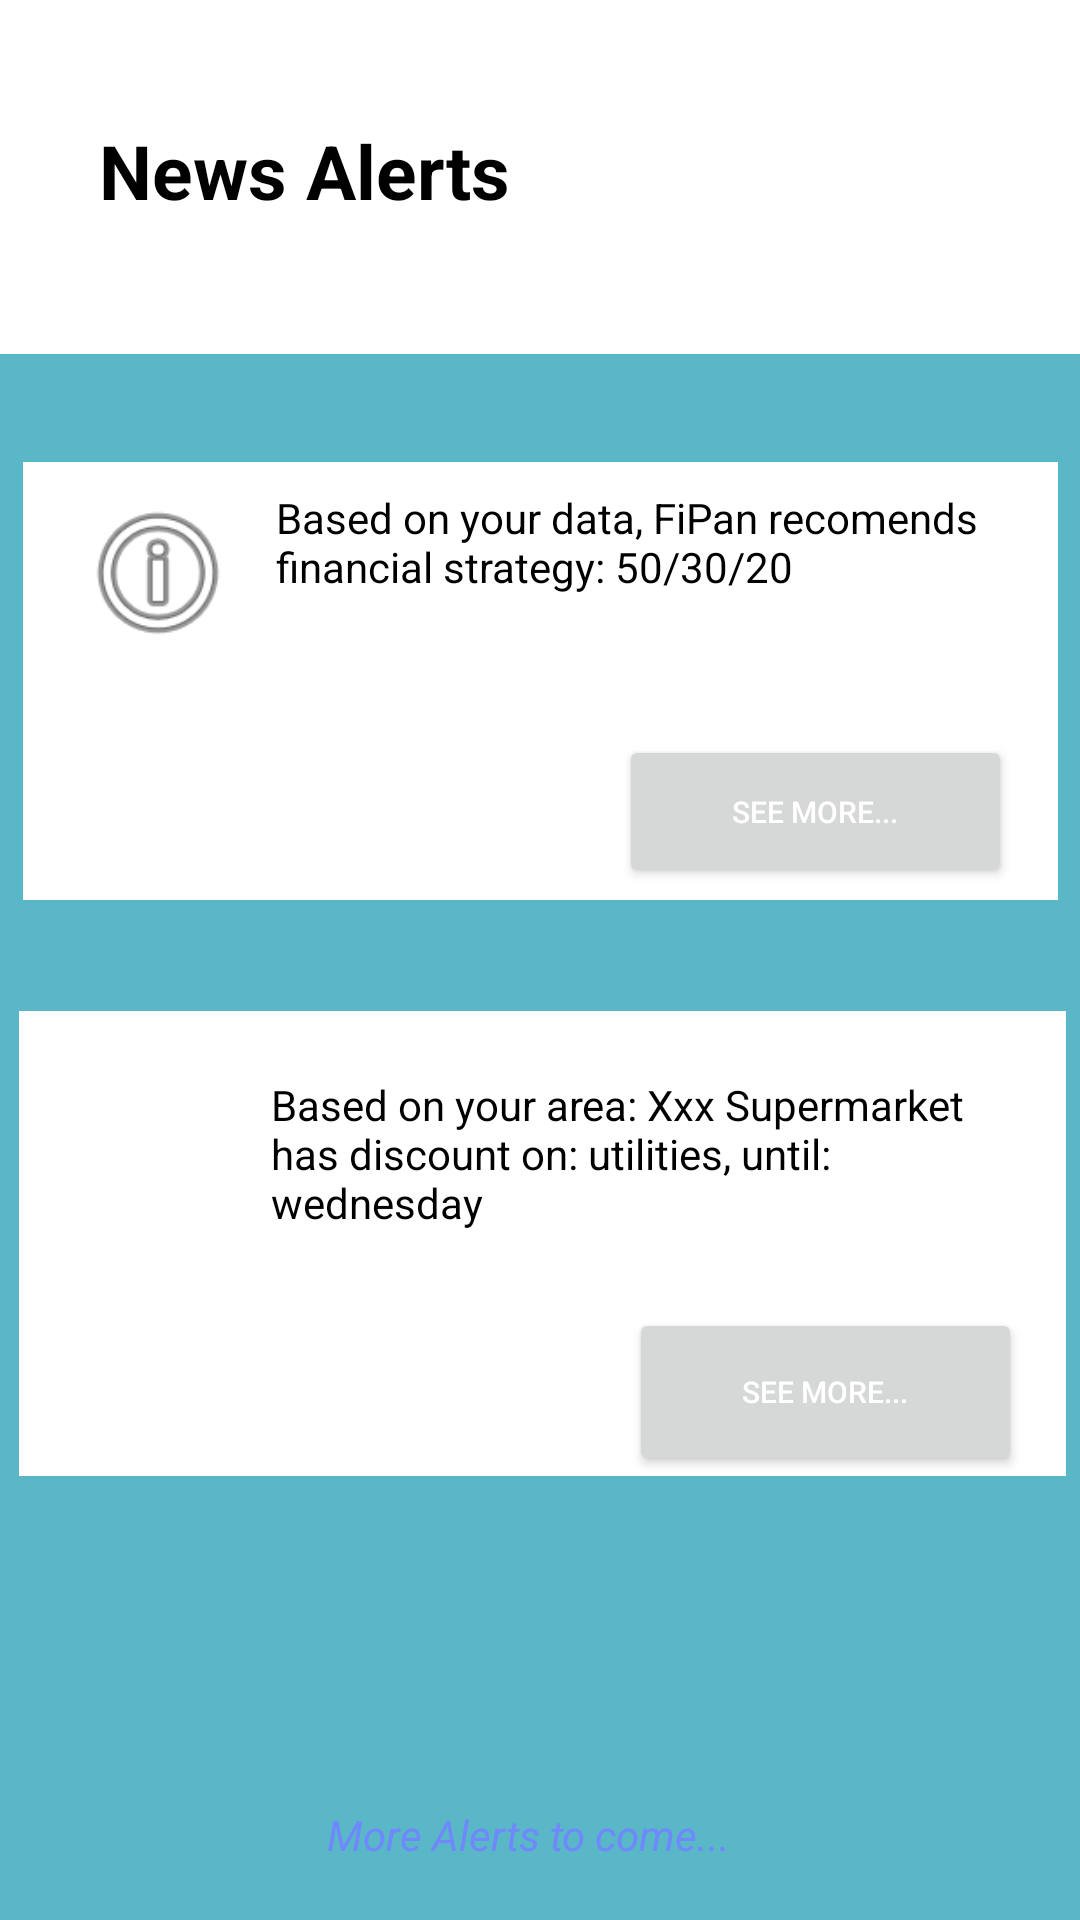

Locate icon controls on the screen. Image size 1080×1920, boxes as (x1, y1, x2, y2).
info details: (97, 512, 219, 634)
